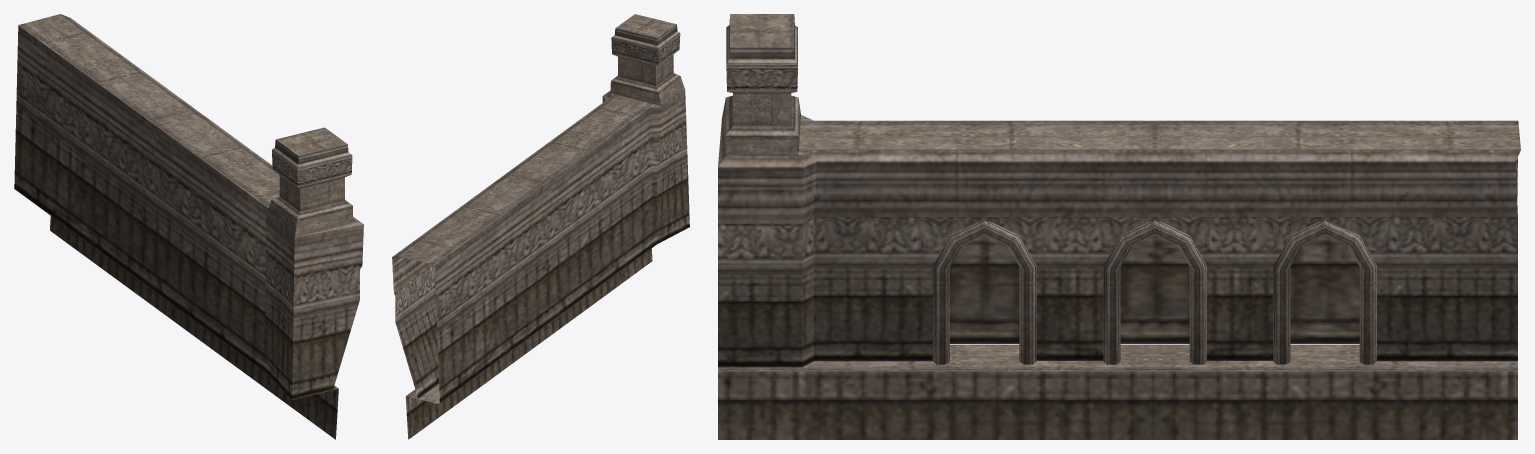
Rendered from SM_zhucheng_Castle_Bridge_Wall_01.FBX.
3 renders of one model, left to right at view 1: azimuth 30°, elevation 25°; view 2: azimuth 150°, elevation 25°; view 3: azimuth 270°, elevation 25°, orthographic. The views are drawn at different scales.
Parts seen in each view (by area): view 1: SM_zhucheng_Castle_Bridge_Wall_01; view 2: SM_zhucheng_Castle_Bridge_Wall_01; view 3: SM_zhucheng_Castle_Bridge_Wall_01.
Boxes of the visible parts, x1,y1,x2,y2 form: SM_zhucheng_Castle_Bridge_Wall_01: (14, 14, 363, 439); SM_zhucheng_Castle_Bridge_Wall_01: (392, 14, 689, 439); SM_zhucheng_Castle_Bridge_Wall_01: (718, 14, 1520, 439).
Size of the model in its own units: 31.38 by 121 by 217.
